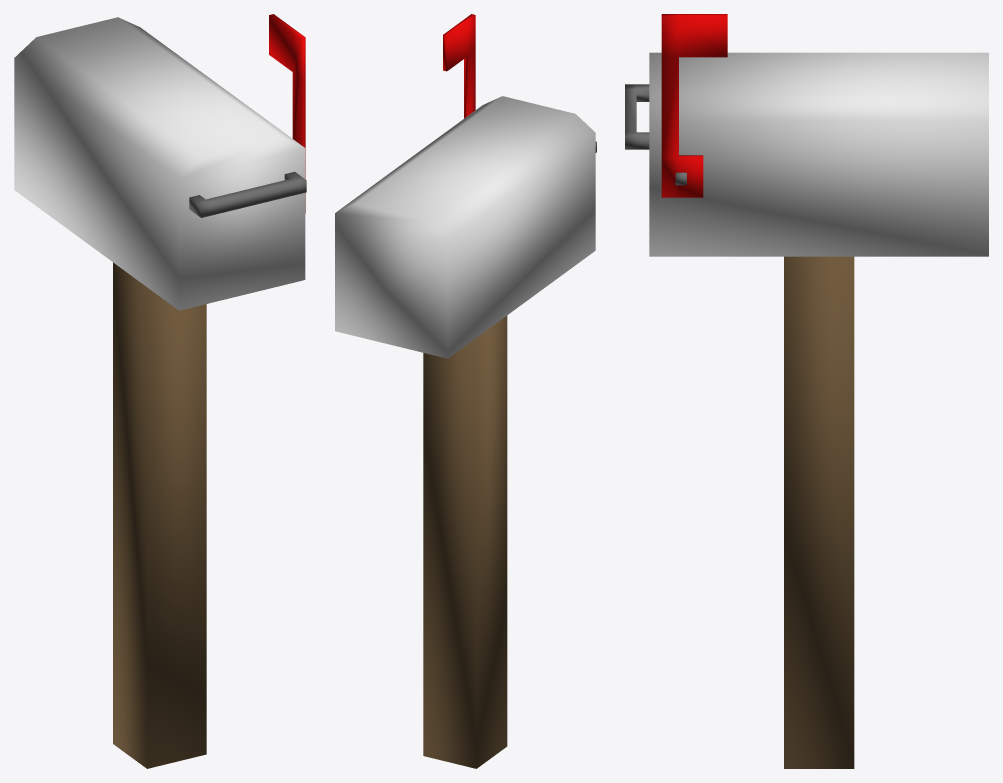
The model's file is Mailbox.fbx.
3 views of the same model, side by side, from view 1: azimuth 30°, elevation 25°; view 2: azimuth 150°, elevation 25°; view 3: azimuth 270°, elevation 25° (orthographic). The views are drawn at different scales.
Visible parts, largest first — view 1: Mailbox; view 2: Mailbox; view 3: Mailbox.
Boxes of the visible parts, x1,y1,x2,y2 form: Mailbox: (14,14,306,768); Mailbox: (335,14,596,768); Mailbox: (625,14,988,768).
Size of the model in its own units: 0.3439 by 1.8 by 0.7666.
